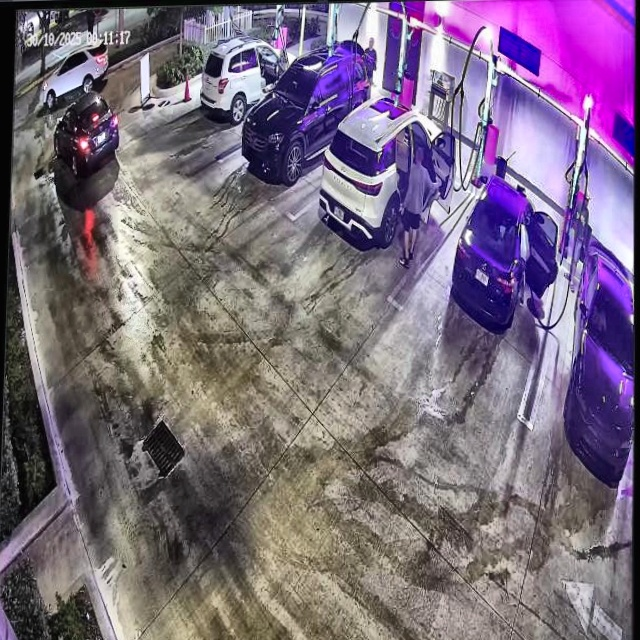Car: (320, 91, 454, 244), (244, 46, 371, 181), (453, 170, 558, 329)
